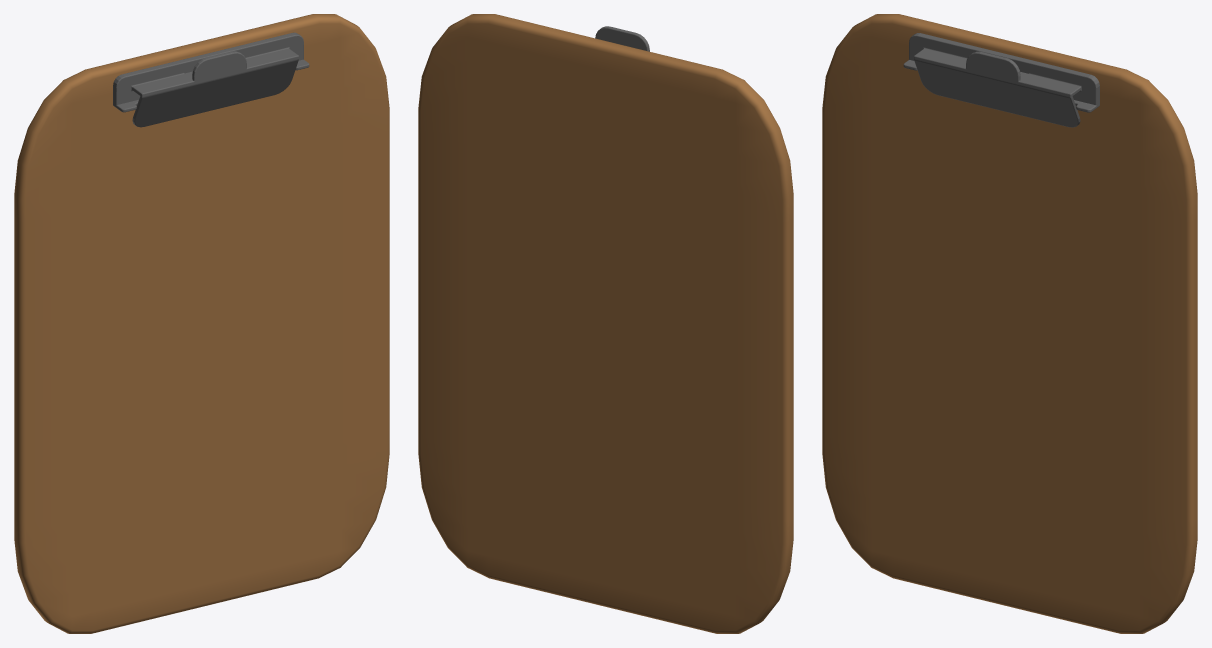
Rendered from Prop_ClipBoard.fbx.
The picture shows the model from 3 angles, left to right: view 1: azimuth 30°, elevation 25°; view 2: azimuth 150°, elevation 25°; view 3: azimuth 330°, elevation 25°; orthographic projection.
Visible parts, largest first — view 1: ClipBoard; view 2: ClipBoard; view 3: ClipBoard.
Part boxes in pixels (box(x1,y1,x2,y2)): ClipBoard: box(14, 14, 389, 633); ClipBoard: box(418, 14, 793, 633); ClipBoard: box(822, 14, 1197, 633).
Size of the model in its own units: 24.21 by 35.04 by 2.55.
